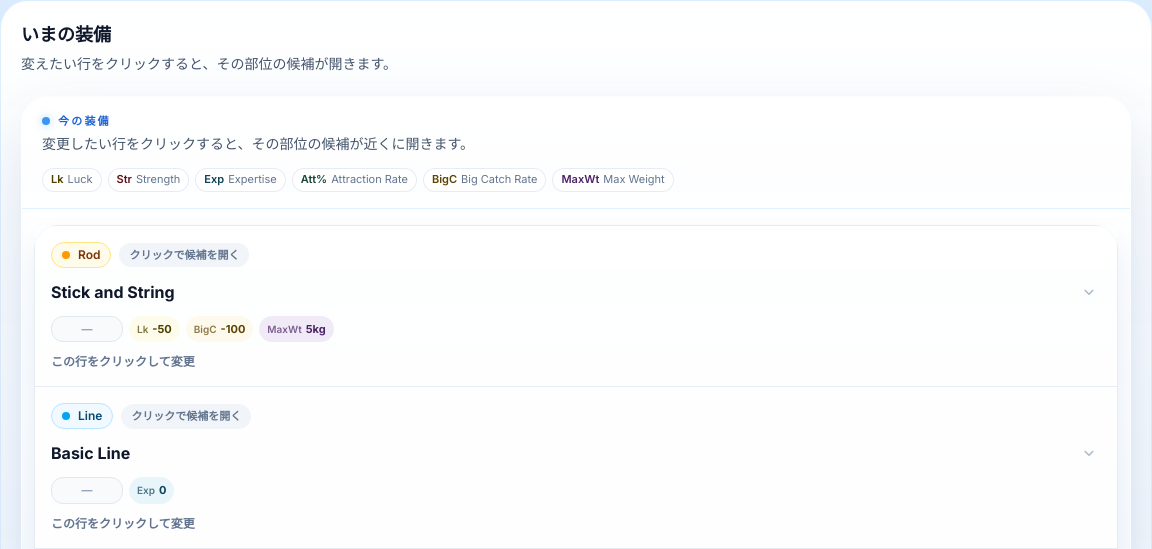
Test: Step 1 loadout UI quality › shows a separate price column in both the current loadout table and the picker table
Click the button named "Rod を選び直す" at (576, 306), box [35, 226, 1117, 386]
(page scrolled)
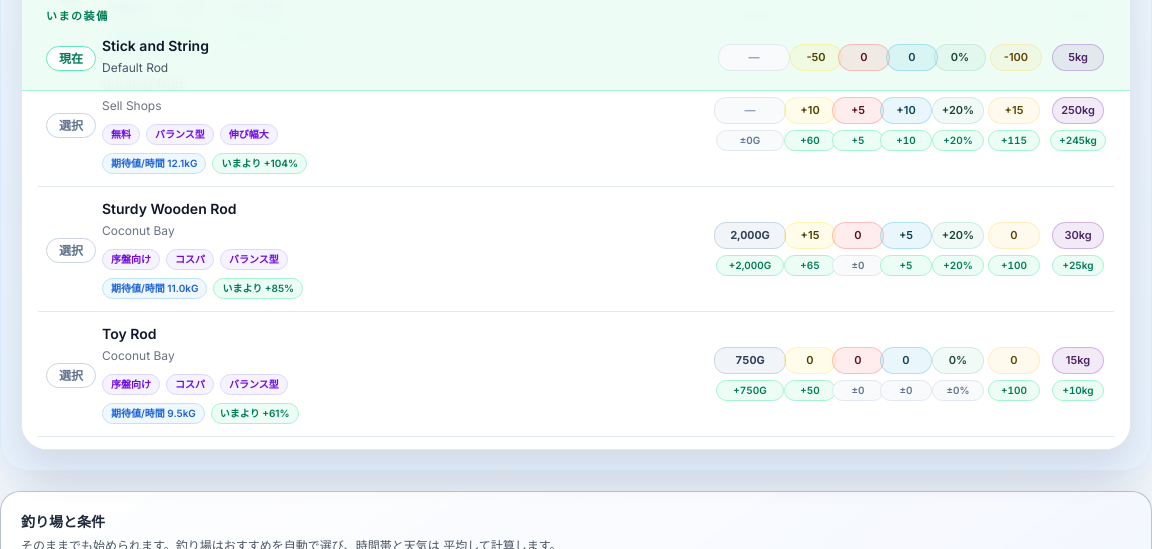
expect the element with test id "picker-current-item-row" shows "—": met, box [748, 50, 760, 64]
expect the text "750G" is shown: met, box [714, 347, 786, 374]
